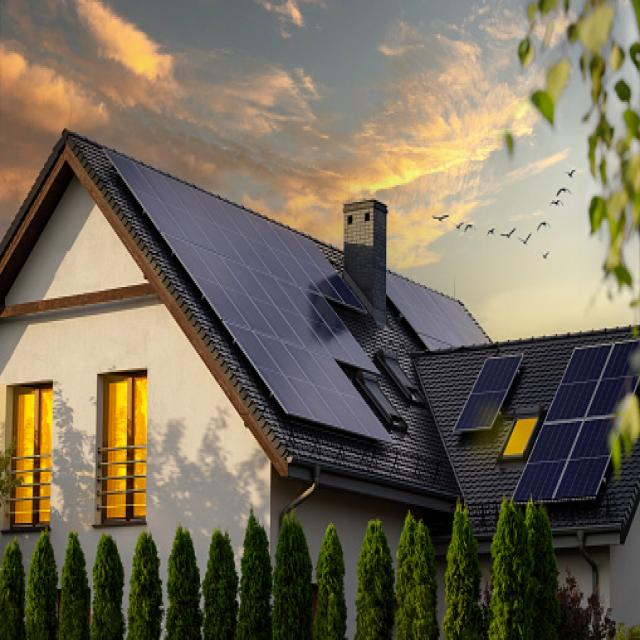Normal_building: (1, 100, 640, 640)
